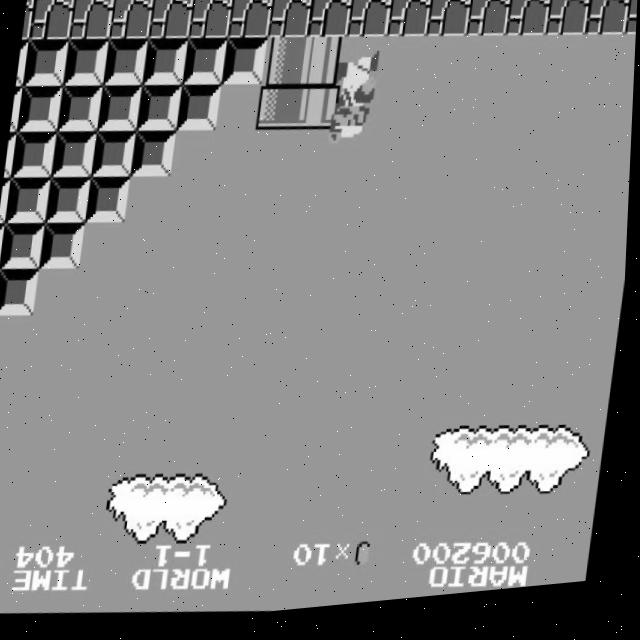14- pipe: (301, 40, 348, 93), (261, 40, 308, 92)
15- pipe_head: (255, 85, 302, 138), (295, 86, 342, 138)
17- undestructible_block: (545, 0, 592, 49), (505, 0, 552, 49), (585, 0, 631, 50), (386, 0, 433, 48), (346, 0, 393, 47), (466, 0, 512, 48), (426, 0, 472, 48), (307, 0, 353, 47), (227, 0, 274, 46), (267, 0, 313, 46), (187, 0, 234, 45), (148, 0, 194, 45), (68, 0, 115, 44), (108, 0, 154, 44), (28, 0, 75, 43), (625, 1, 638, 50), (22, 0, 34, 40), (590, 0, 634, 4), (550, 0, 594, 4), (471, 0, 515, 3), (511, 0, 554, 3), (431, 0, 475, 2), (391, 0, 435, 2), (352, 0, 396, 1), (630, 0, 639, 4), (312, 0, 356, 0), (272, 0, 316, 0)
4- fire_mario: (328, 55, 383, 156)
9- hard_block: (176, 84, 223, 137), (86, 175, 133, 228), (97, 83, 144, 136), (102, 38, 149, 91), (17, 82, 64, 135), (23, 37, 70, 90), (182, 39, 229, 91), (136, 84, 183, 136), (142, 39, 189, 91), (91, 130, 138, 182), (40, 221, 87, 273), (46, 175, 93, 227), (57, 83, 104, 135), (6, 175, 53, 227), (0, 221, 47, 272), (222, 40, 268, 92), (63, 38, 109, 90), (12, 129, 58, 181), (131, 131, 177, 182), (52, 130, 98, 181), (0, 266, 42, 319), (10, 85, 23, 132), (16, 40, 29, 87), (0, 177, 12, 224), (5, 132, 17, 178), (0, 223, 6, 269), (0, 268, 1, 315)
